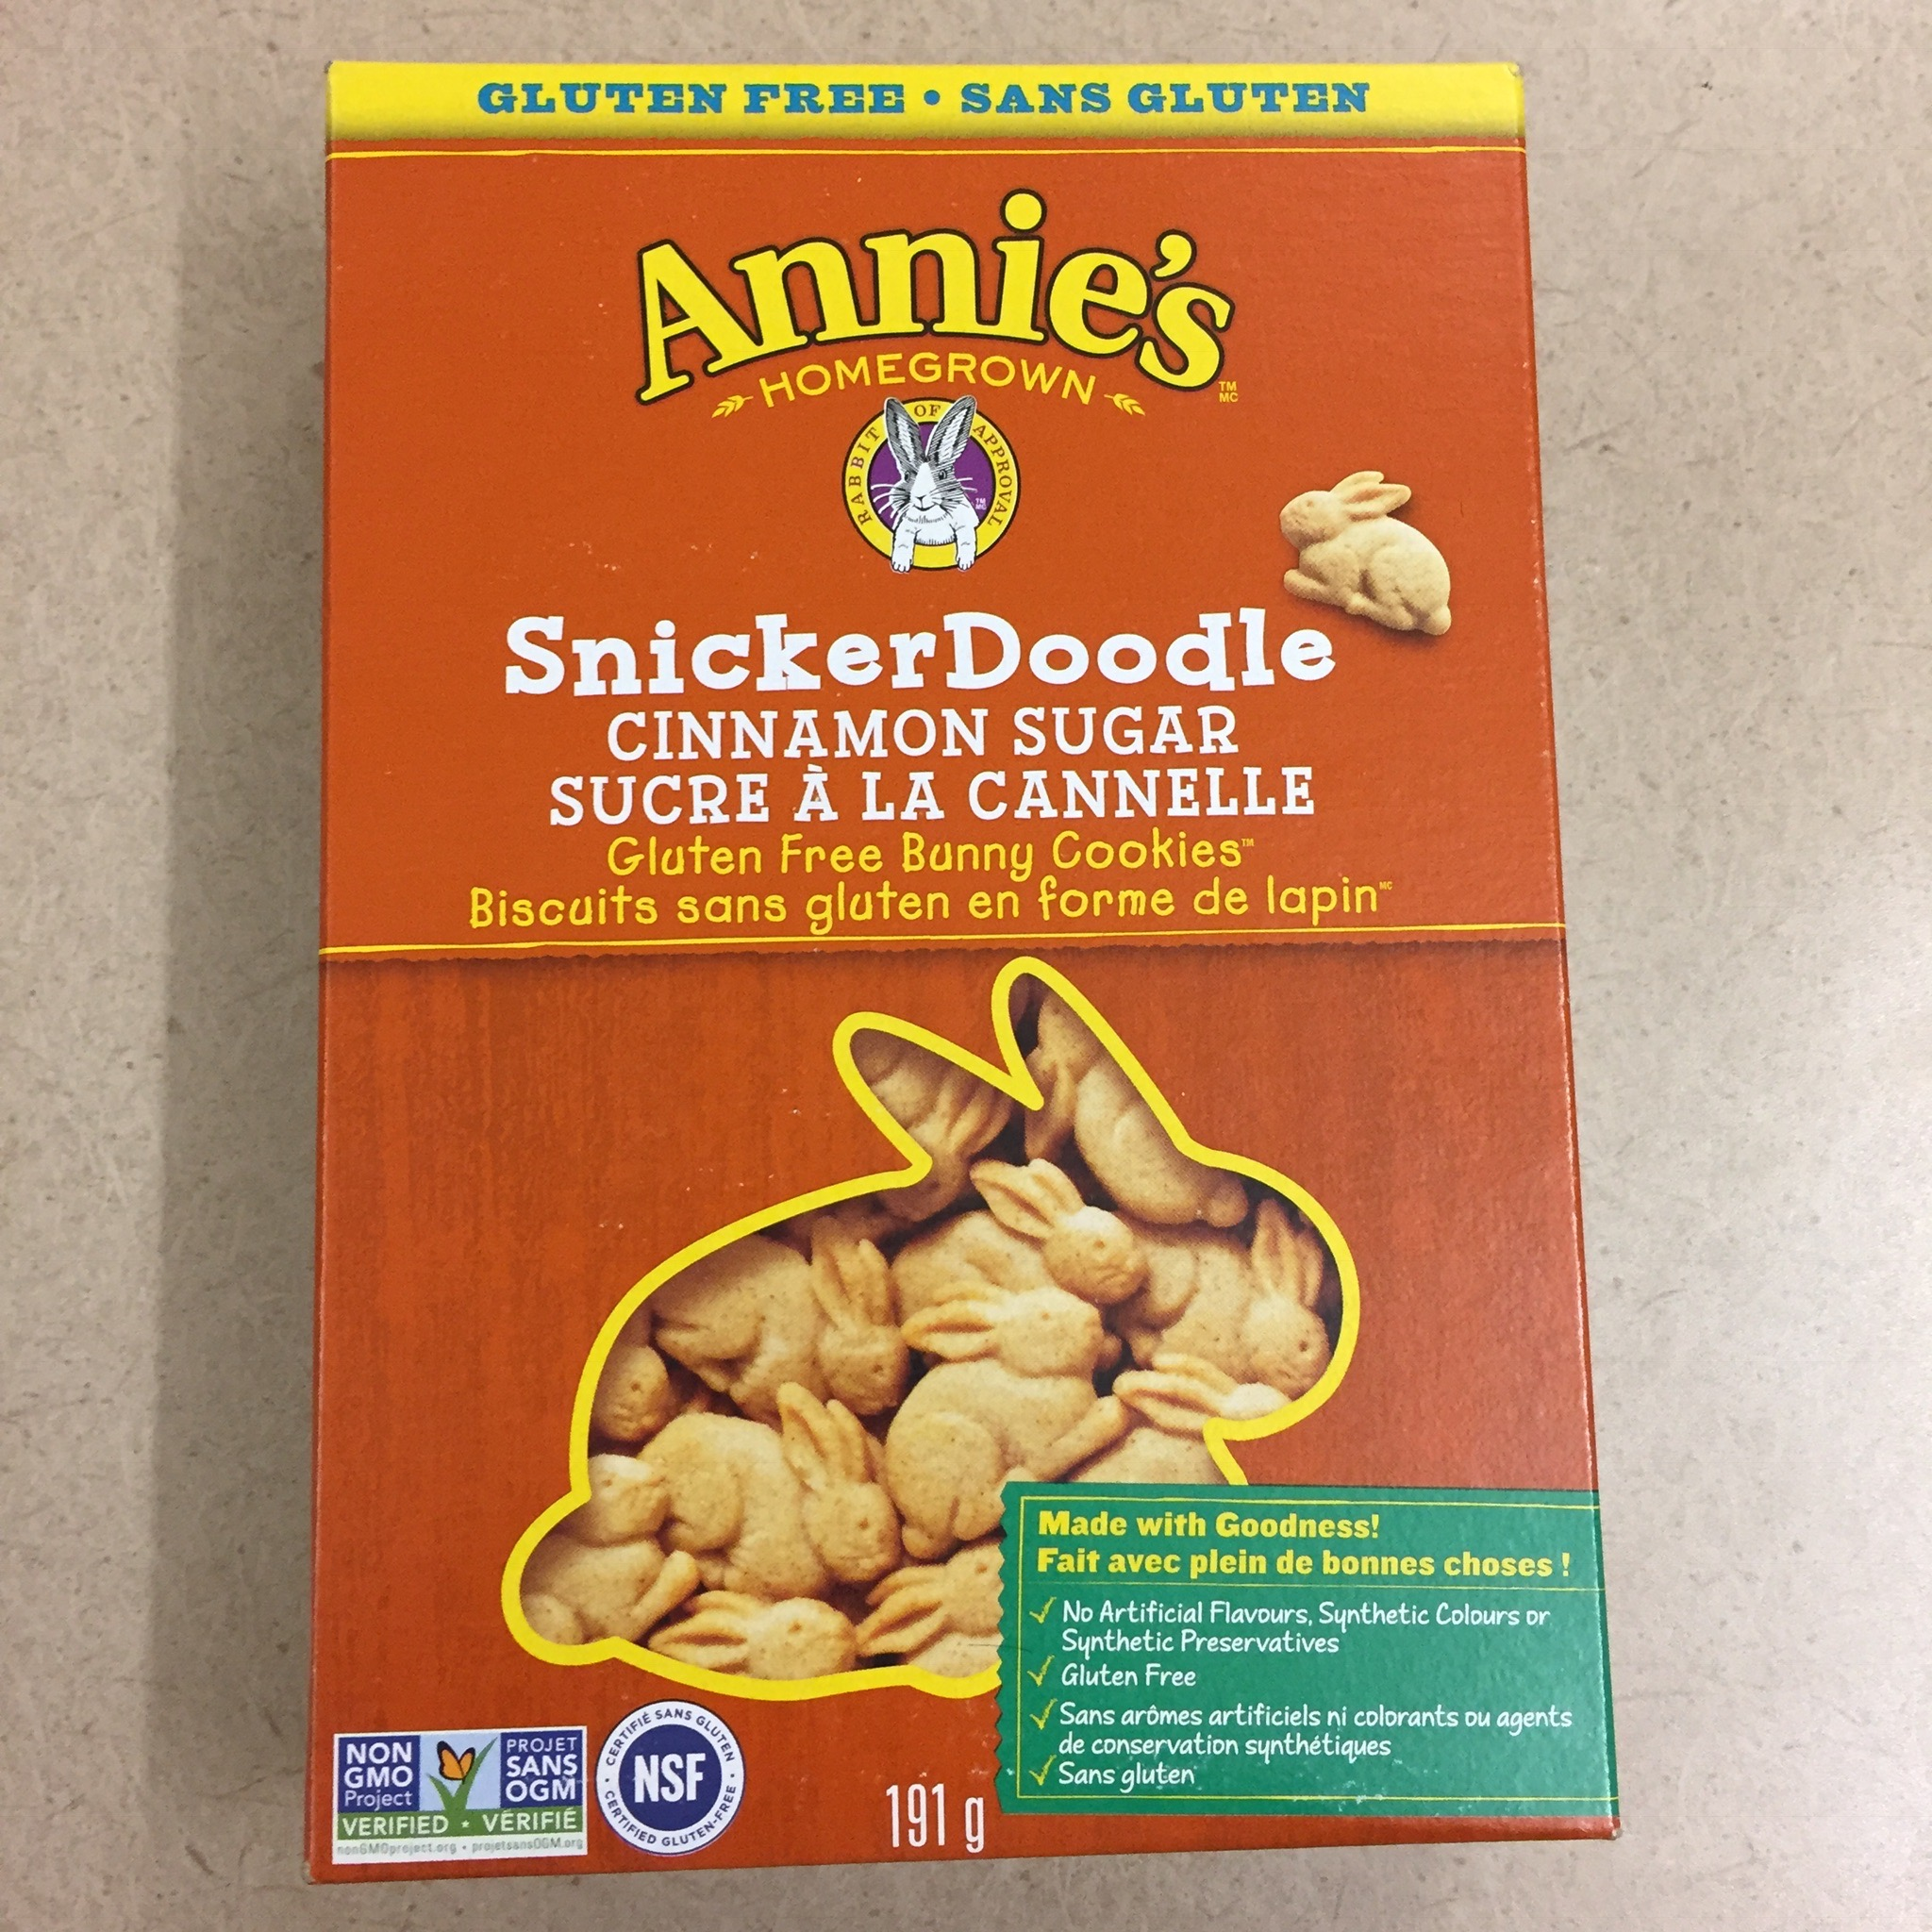annies_snickerdoodle_cinnamon_sugar: (297, 53, 1628, 1888)
